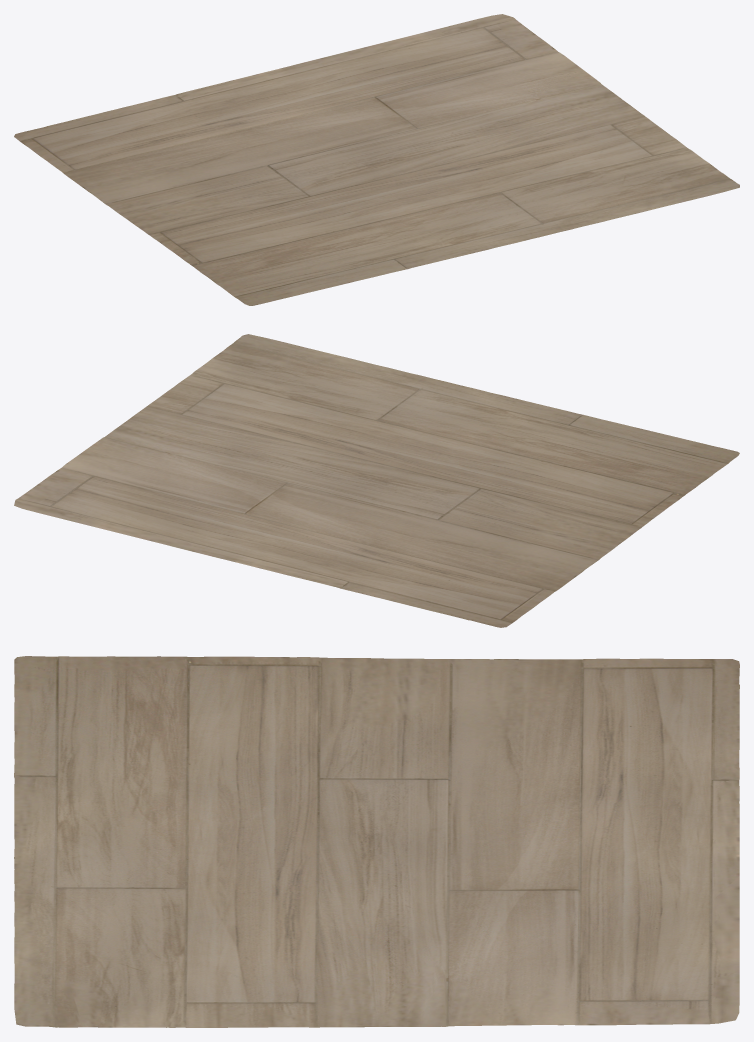
File: tile.glb
3 renders of one model, top to bottom at view 1: azimuth 30°, elevation 25°; view 2: azimuth 150°, elevation 25°; view 3: azimuth 270°, elevation 25°, orthographic. The views are drawn at different scales.
Parts seen in each view (by area): view 1: Object_2; view 2: Object_2; view 3: Object_2.
Part boxes in pixels (x1=…): Object_2: x1=14, y1=14, x2=739, y2=305; Object_2: x1=14, y1=334, x2=739, y2=627; Object_2: x1=14, y1=656, x2=739, y2=1027.
Bounding box in the file's own units: 979 × 5.73 × 814.
Materials: 1 (1 with a texture image).
